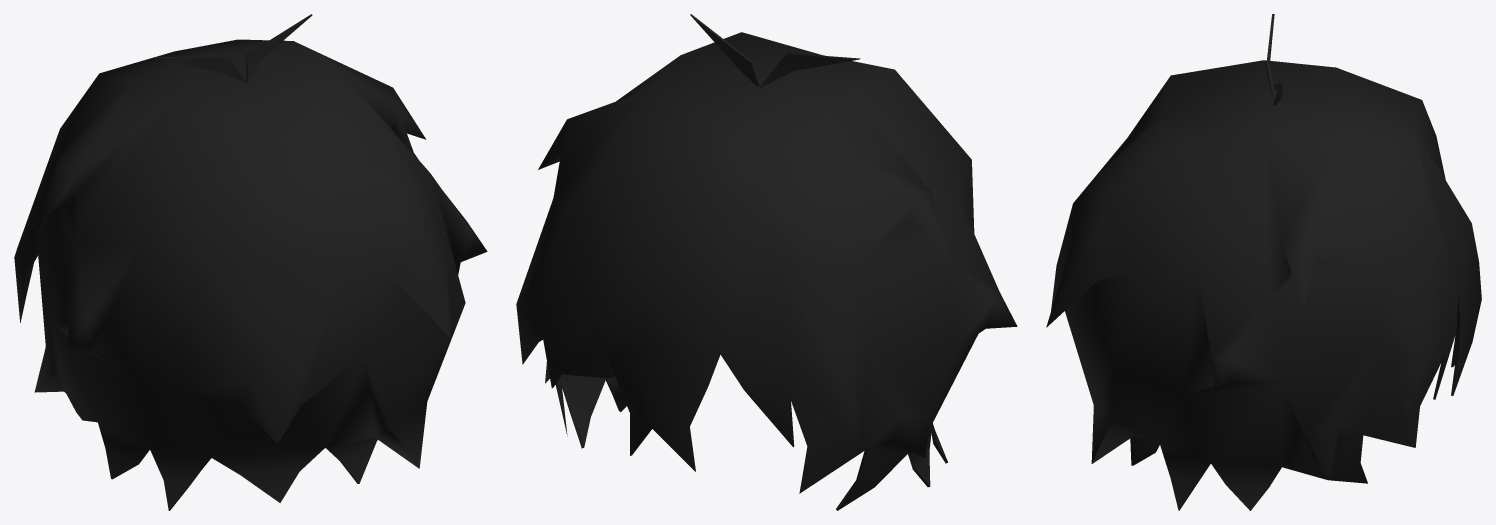
File: 02-Low-Poly-Messy-Boy-Hair-Black-128971224541817.glb
3 renders of one model, left to right at view 1: azimuth 30°, elevation 25°; view 2: azimuth 150°, elevation 25°; view 3: azimuth 270°, elevation 25°, orthographic. The views are drawn at different scales.
Parts seen in each view (by area): view 1: Low-Poly-Messy-Boy-Hair-Black; view 2: Low-Poly-Messy-Boy-Hair-Black; view 3: Low-Poly-Messy-Boy-Hair-Black.
Boxes of the visible parts, box(x1,y1,x2,y2) form: Low-Poly-Messy-Boy-Hair-Black: box(14, 14, 487, 510); Low-Poly-Messy-Boy-Hair-Black: box(516, 14, 1017, 510); Low-Poly-Messy-Boy-Hair-Black: box(1046, 14, 1481, 510).
Bounding box in the file's own units: 1.86 × 1.74 × 1.73.
1 material, 1 textured.
